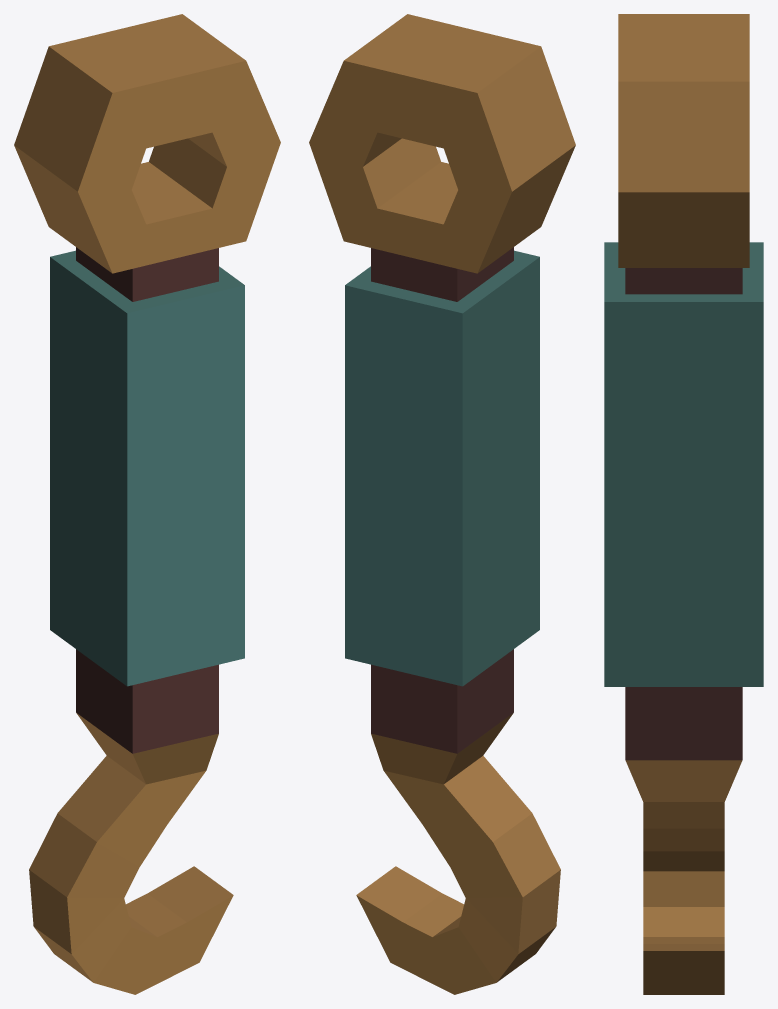
Rendered from OB_Hook.fbx.
3 views of the same model, side by side, from view 1: azimuth 30°, elevation 25°; view 2: azimuth 150°, elevation 25°; view 3: azimuth 270°, elevation 25° (orthographic). The views are drawn at different scales.
Parts seen in each view (by area): view 1: OB_Hook; view 2: OB_Hook; view 3: OB_Hook.
Boxes of the visible parts, x1=… form: OB_Hook: x1=14, y1=14, x2=280, y2=994; OB_Hook: x1=309, y1=14, x2=575, y2=994; OB_Hook: x1=604, y1=14, x2=763, y2=994.
Bounding box in the file's own units: 34.68 × 150 × 22.86.
